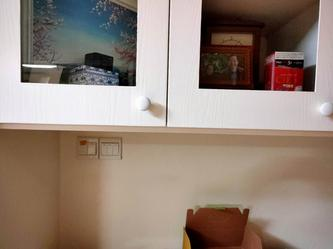switch: (117, 140, 124, 159), (79, 139, 86, 154), (101, 143, 108, 157), (110, 140, 115, 159), (90, 140, 96, 155)
